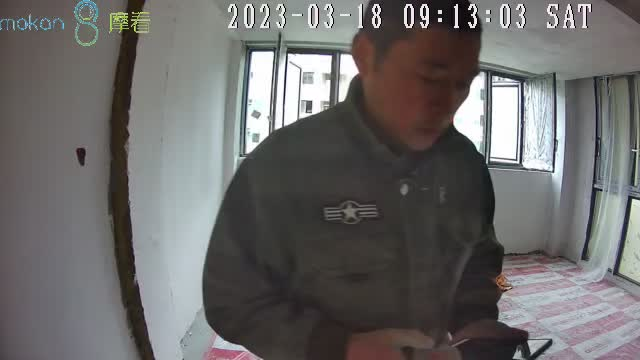people: (202, 1, 508, 360)
window: (241, 41, 336, 157), (473, 66, 552, 174)
